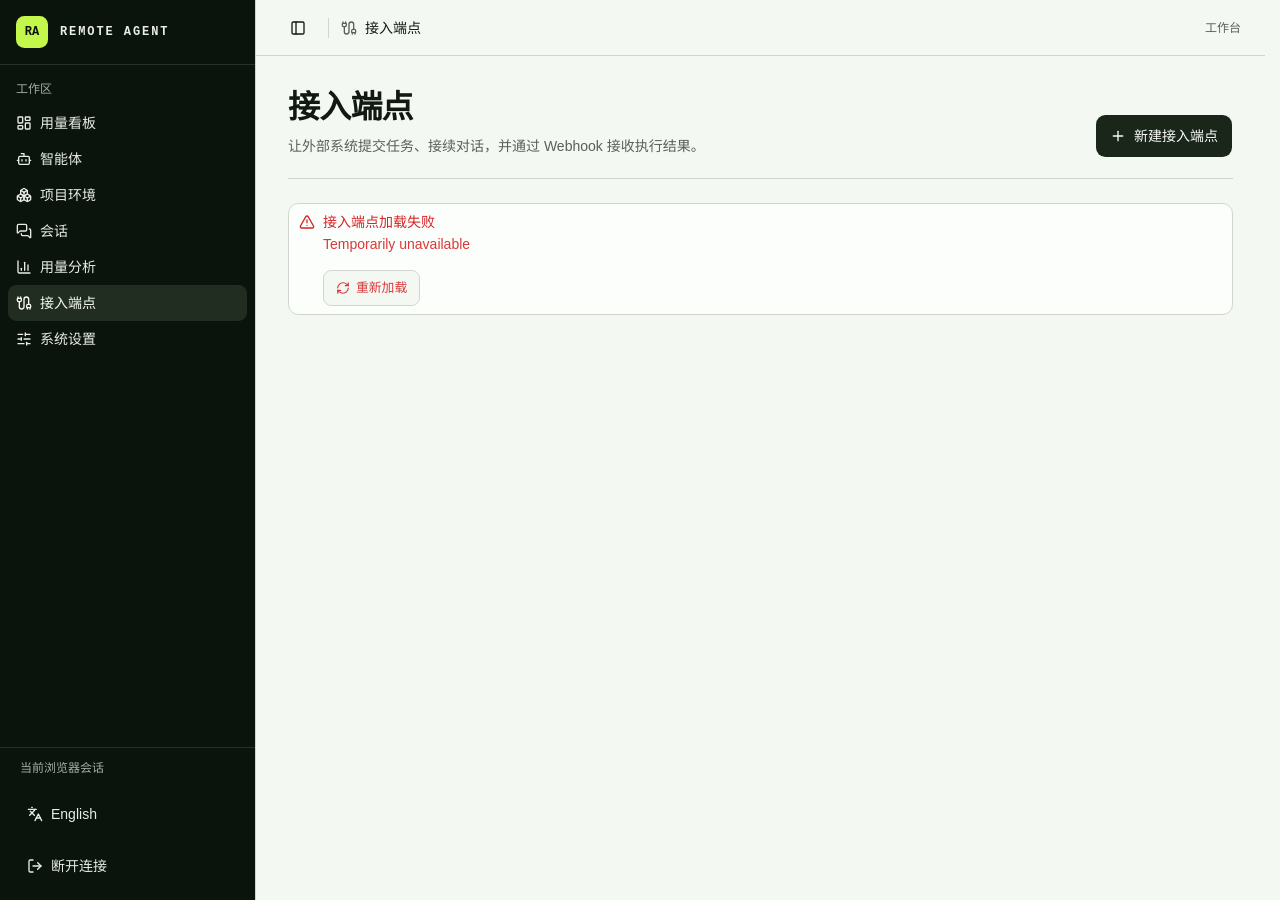
Test: recovers a failed /integration-endpoints list without leaving a loading skeleton
This screenshot has width=1280, height=900.
Expected: the message shows "接入端点加载失败", x1=323 y1=214 x2=435 y2=230
What coordinates should you click on to do the following:
click the button "重新加载"
I would click on:
 (372, 288)
Its box is x1=323 y1=270 x2=420 y2=306.
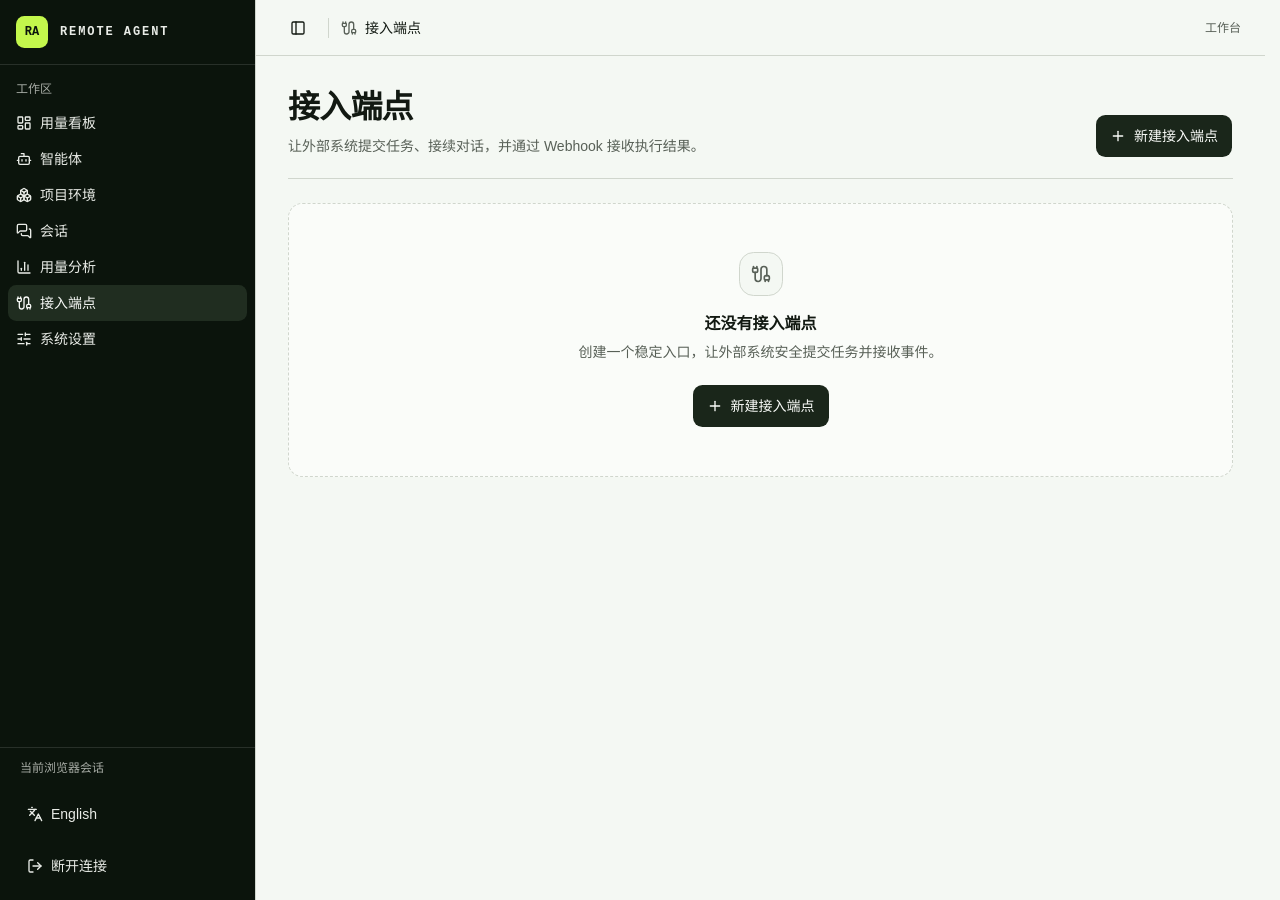
Result: the heading "还没有接入端点" is shown at x1=704 y1=312 x2=816 y2=336
Result: the message "接入端点加载失败 Temporarily unavailable 重新加载" is gone
